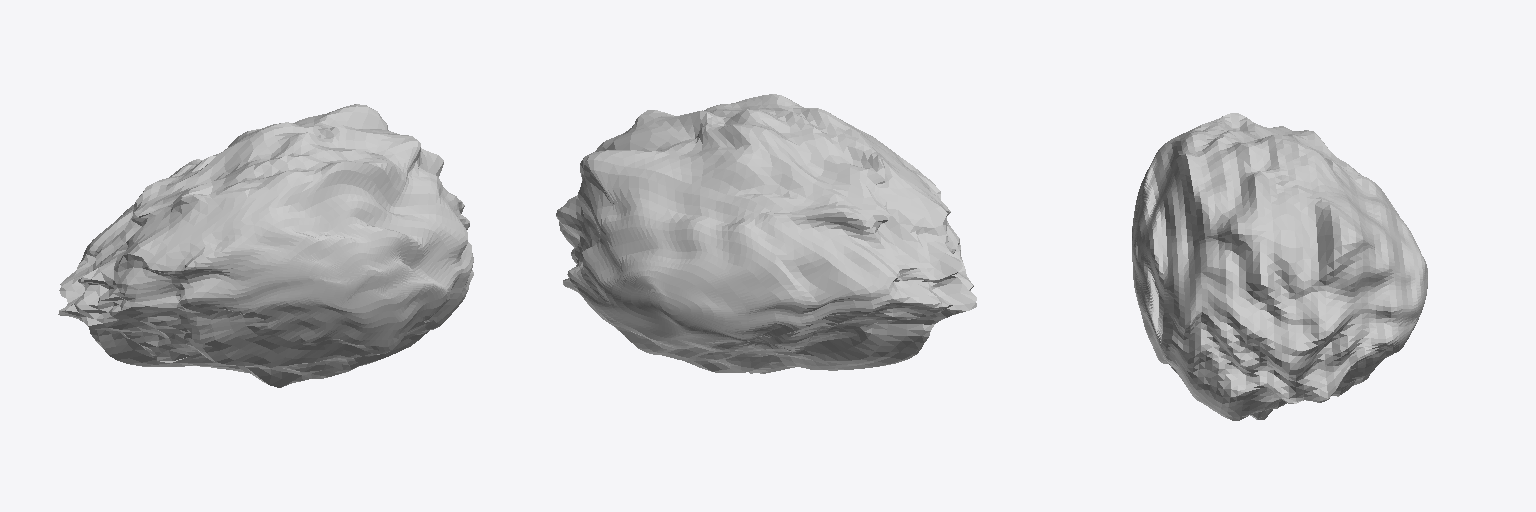
Rendered from asteroid.obj.
The picture shows the model from 3 angles: view 1: azimuth 30°, elevation 25°; view 2: azimuth 150°, elevation 25°; view 3: azimuth 270°, elevation 25°; orthographic projection.
Parts seen in each view (by area): view 1: asteroid; view 2: asteroid; view 3: asteroid.
Part boxes in pixels (left/top/right/bottom): asteroid: left=58, top=104, right=473, bottom=387; asteroid: left=556, top=94, right=976, bottom=373; asteroid: left=1132, top=113, right=1427, bottom=420.
Bounding box in the file's own units: 0.6626 × 0.3931 × 0.419.